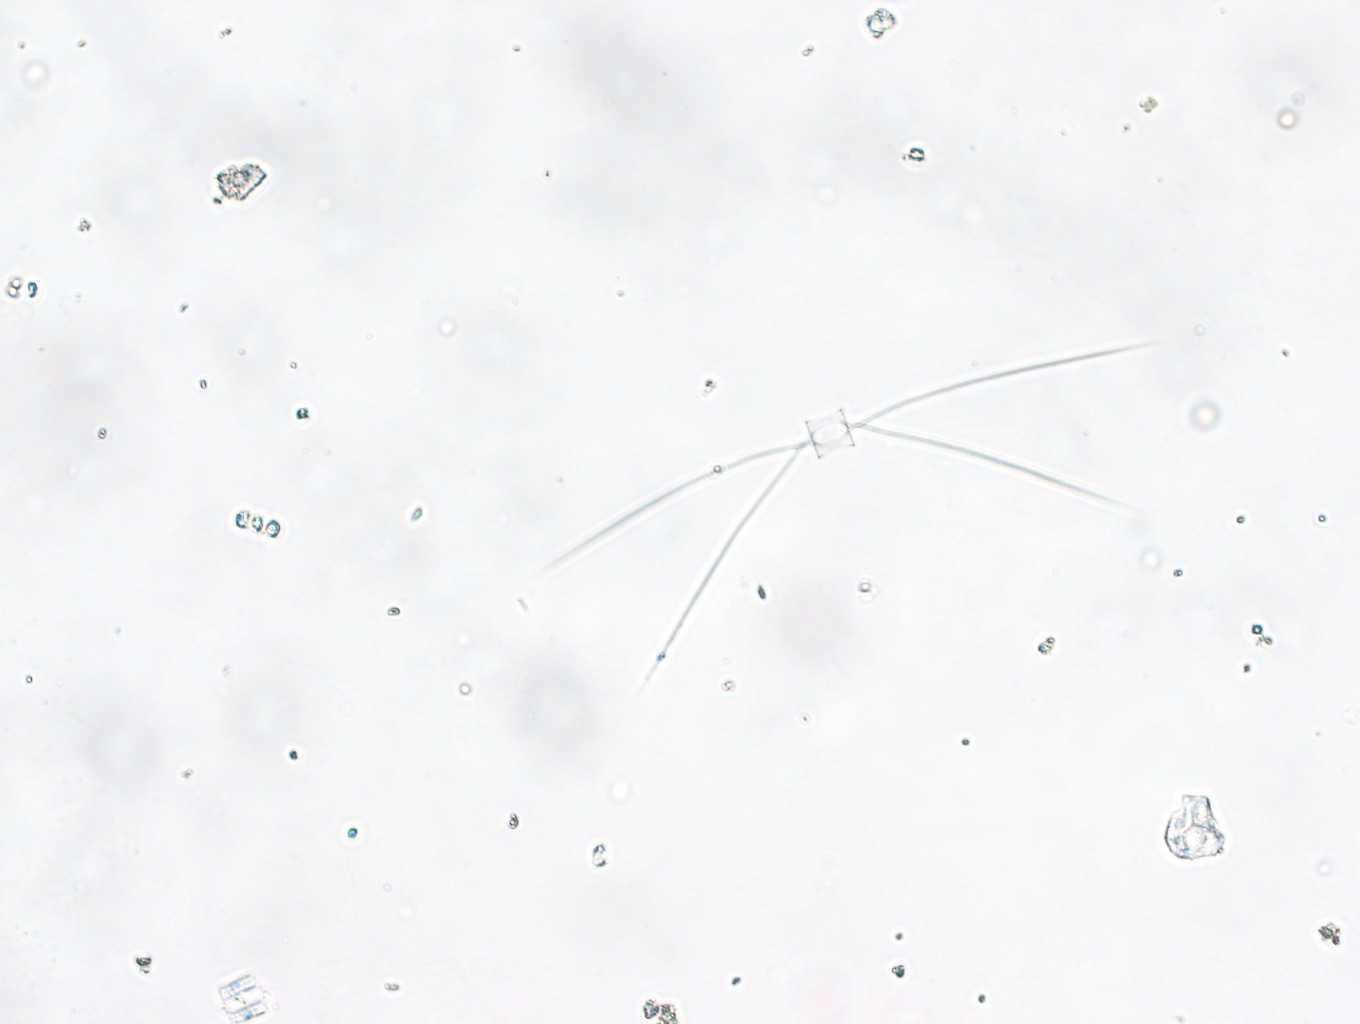chaetoceros: (529, 346, 1155, 682)
